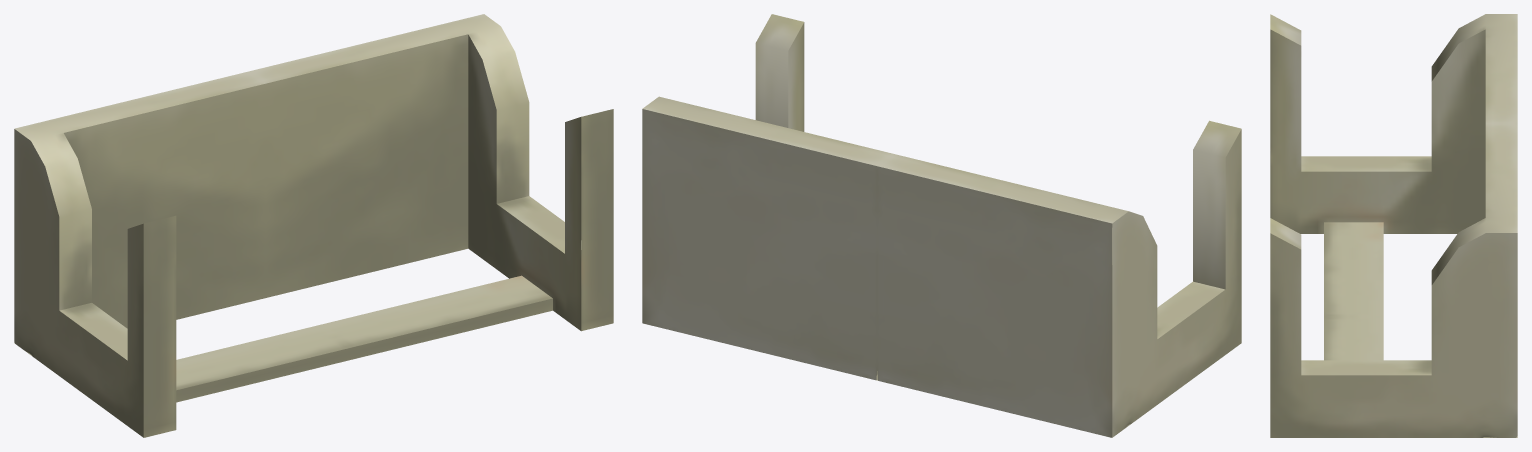
The model's file is props_table_white.fbx.
3 renders of one model, left to right at view 1: azimuth 30°, elevation 25°; view 2: azimuth 150°, elevation 25°; view 3: azimuth 270°, elevation 25°, orthographic. The views are drawn at different scales.
Parts seen in each view (by area): view 1: high_table_white; view 2: high_table_white; view 3: high_table_white.
Boxes of the visible parts, x1,y1,x2,y2 form: high_table_white: [14, 14, 613, 437]; high_table_white: [642, 14, 1241, 437]; high_table_white: [1270, 14, 1517, 437].
Size of the model in its own units: 1.57 by 0.6841 by 0.7494.
1 material, 1 textured.
